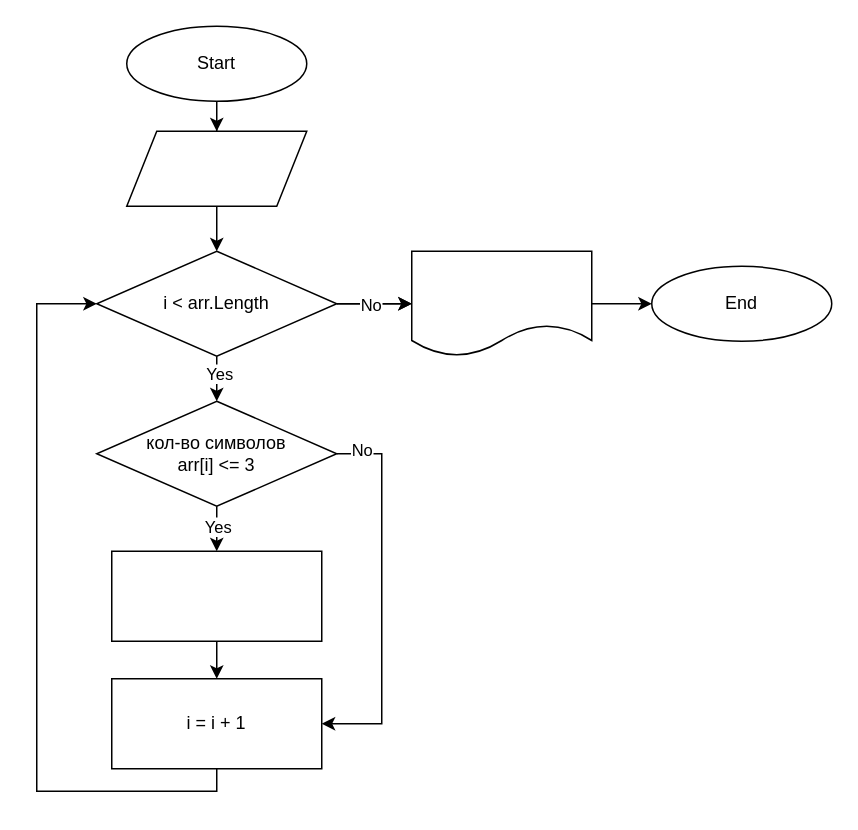
Some shapes in this 858 by 830 pixel diagram are drawn without their labels. Here are the shapes that lost their labels. From the top down, the centre of each, then its label:
(216,168): int[] arr int i = 0 arr[i]
(501,303): print new arr
(216,595): кладем arr[i] в новый массив new arr[]
